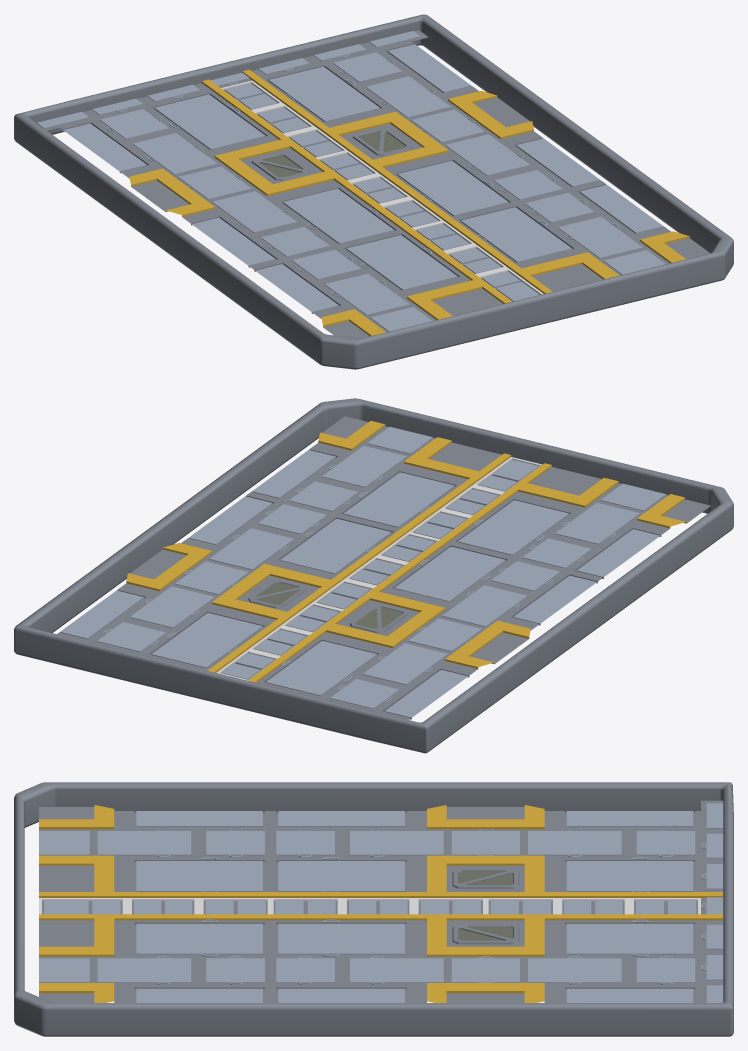
File: Level25_Ground_ 1.fbx
The picture shows the model from 3 angles, top to bottom: view 1: azimuth 30°, elevation 25°; view 2: azimuth 150°, elevation 25°; view 3: azimuth 270°, elevation 25°; orthographic projection. The views are drawn at different scales.
Parts seen in each view (by area): view 1: Ground (×2), Border, Ground4 (×2), Ground5 (×2), pCube100 (×3), pCube87 (×2); view 2: Ground (×2), Border, Ground4 (×2), Ground5 (×2), pCube87 (×2); view 3: Ground (×2), Border, Ground4 (×2), Ground5 (×2), pCube100 (×4), pCube87 (×2), pPlane1 (×2).
Boxes of the visible parts, x1,y1,x2,y2 form: Ground (×2): (119,56,644,326); Border: (14,14,733,369); Ground4 (×2): (60,113,410,338); Ground5 (×2): (352,41,709,269); pCube100 (×3): (86,30,428,118); pCube87 (×2): (251,127,411,180); Ground (×2): (116,432,643,705); Border: (14,398,733,753); Ground4 (×2): (349,489,710,719); Ground5 (×2): (57,416,410,648); pCube87 (×2): (248,579,408,633); Ground (×2): (39,843,723,970); Border: (14,782,733,1036); Ground4 (×2): (39,805,700,843); Ground5 (×2): (39,970,700,1002); pCube100 (×4): (701,800,723,1002); pCube87 (×2): (452,868,519,944); pPlane1 (×2): (458,871,513,940).
Size of the model in its own units: 561 by 36.61 by 755.
